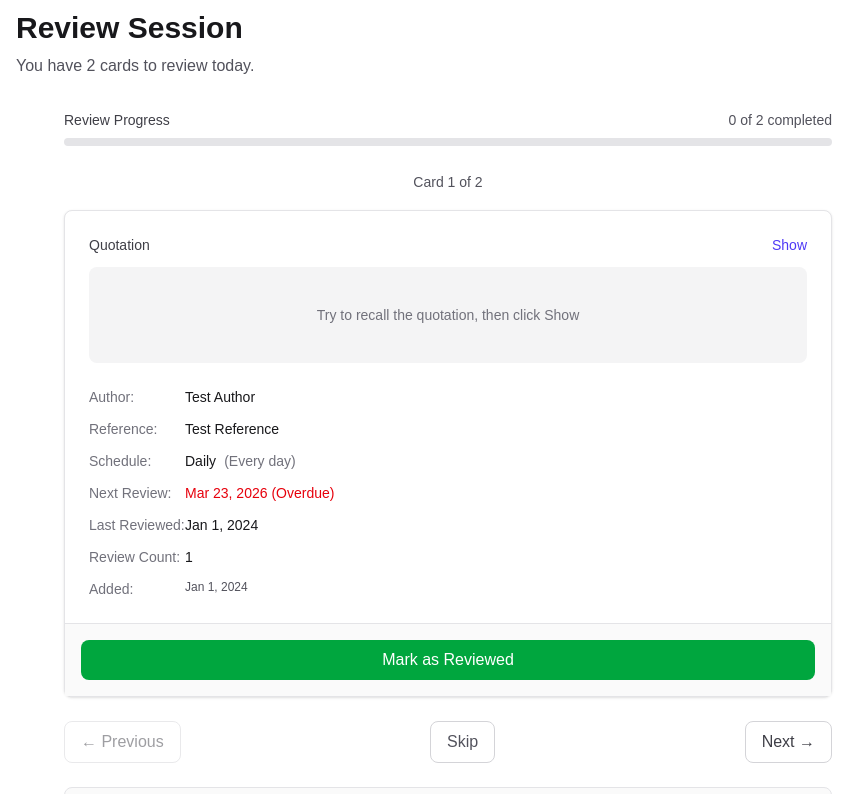
Test: Review Page › Review Session with Cards › should render ReviewSession component with cards
Note: Click the "Show" button to reveal the quotation
Click the button "Show" at [790, 245], box [772,235,807,255]
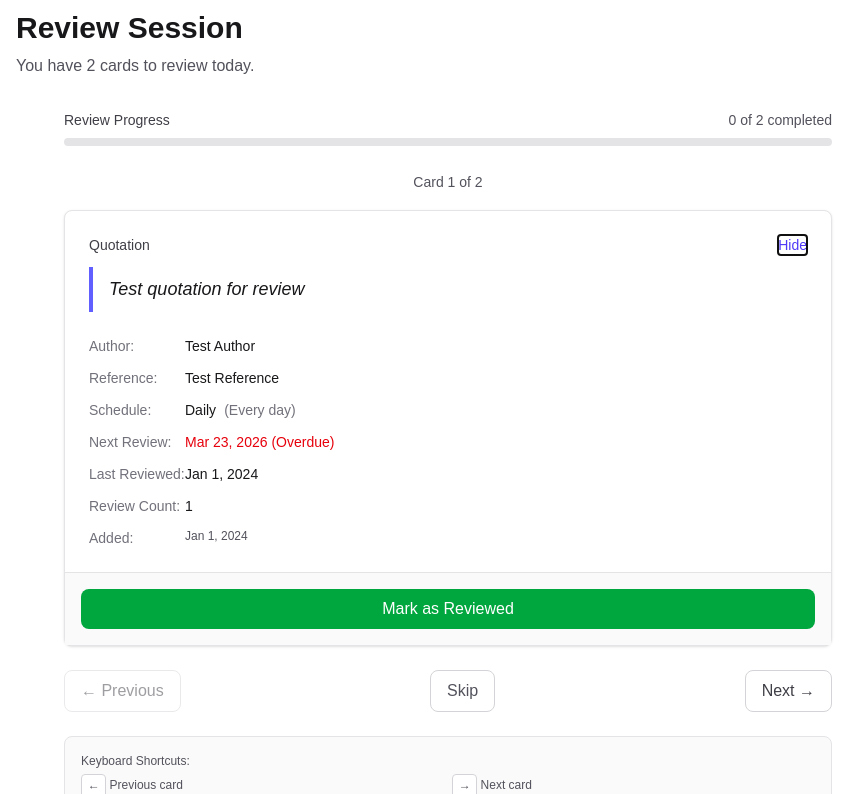
Expected: the text "Test quotation for review" is shown, [89,267,807,312]
